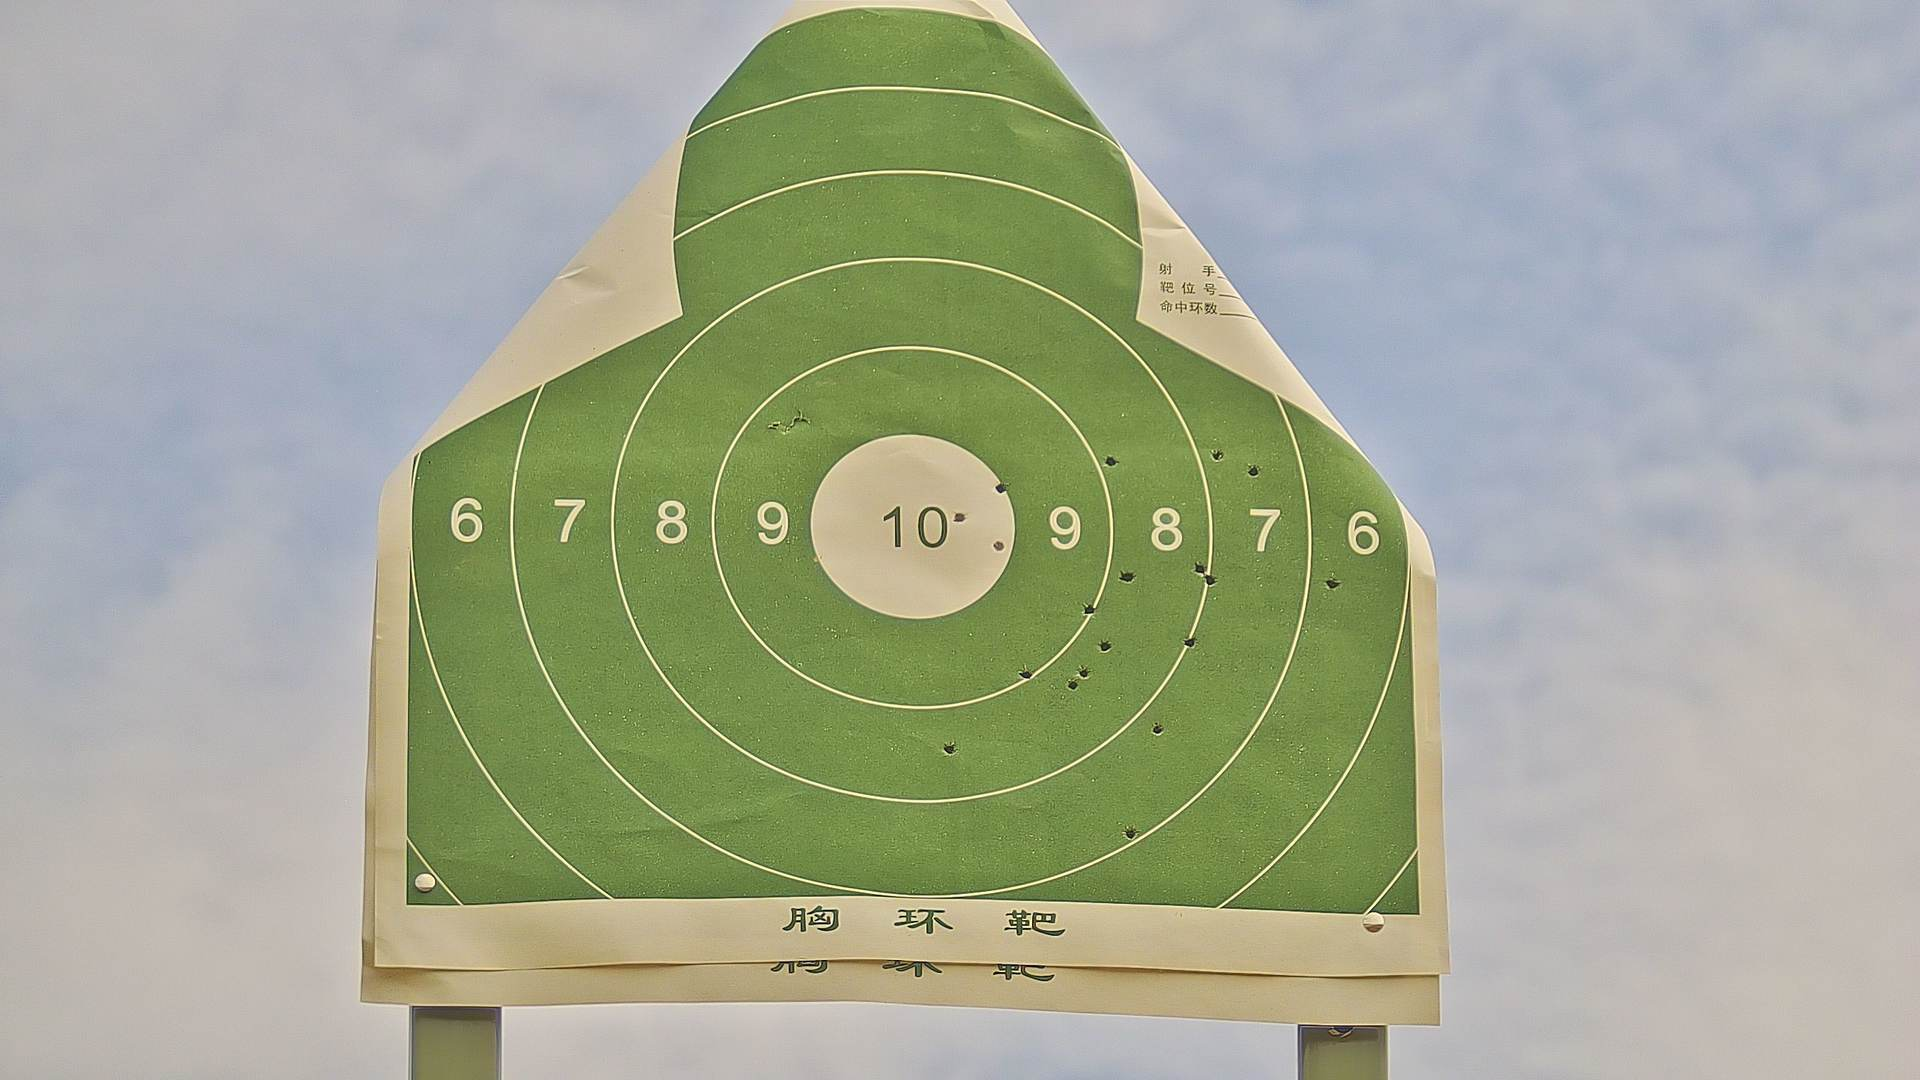hole: (1195, 572, 1220, 591), (1073, 662, 1092, 683), (1116, 567, 1135, 585), (1015, 665, 1035, 683), (1149, 717, 1167, 737), (1079, 599, 1097, 616), (940, 738, 959, 756), (1324, 574, 1341, 592), (1064, 676, 1081, 694), (989, 535, 1005, 554), (1097, 636, 1113, 654), (952, 508, 967, 527), (1191, 558, 1207, 575), (1182, 634, 1199, 650), (990, 483, 1010, 496), (1124, 822, 1137, 841), (1102, 454, 1118, 468), (1209, 447, 1225, 462), (1246, 463, 1262, 477)
kernel: (905, 526, 916, 530)
target: (404, 15, 1425, 924)
ten: (808, 433, 1015, 620)
